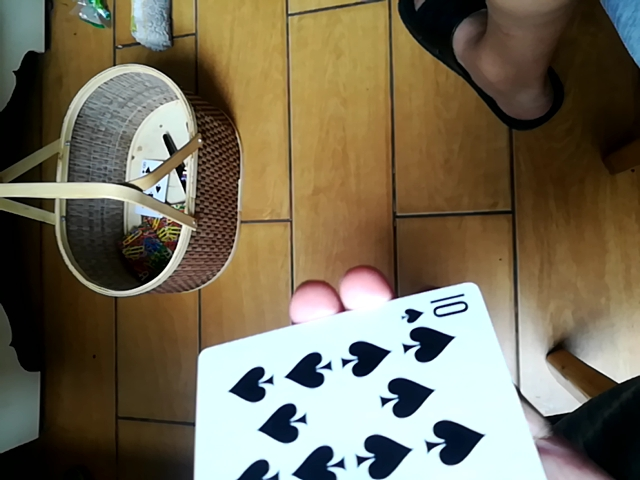ht 10: (199, 285, 537, 478)
